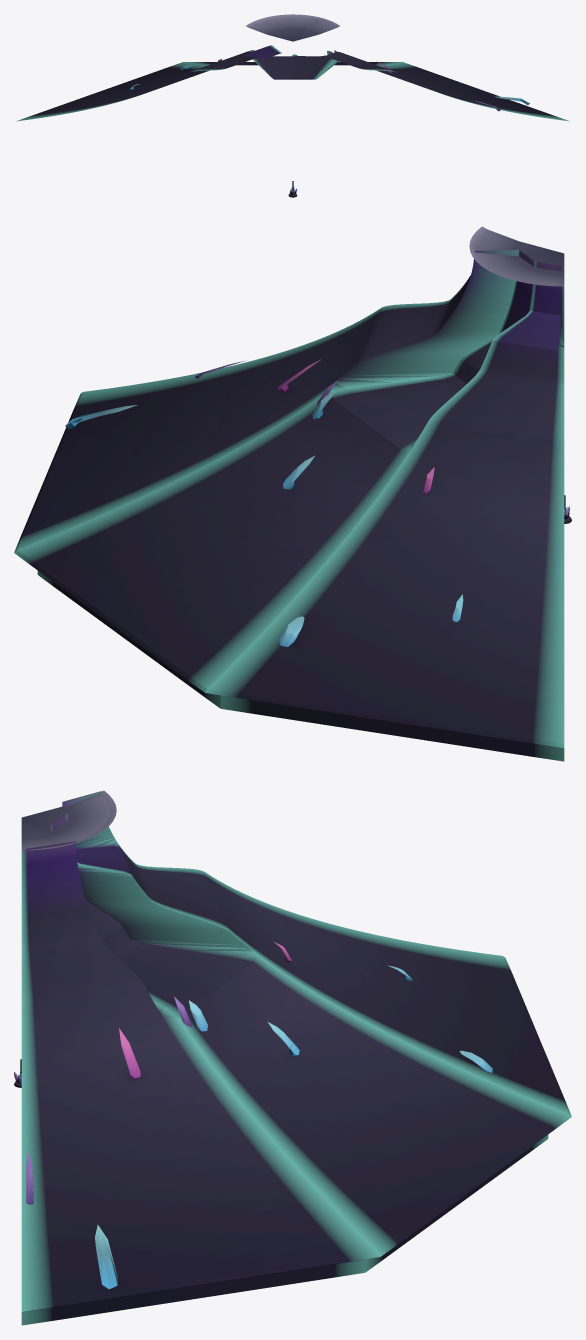
Rendered from caverns-s2-G9CEpKGm.glb.
3 renders of one model, top to bottom at view 1: azimuth 30°, elevation 25°; view 2: azimuth 150°, elevation 25°; view 3: azimuth 270°, elevation 25°, orthographic. The views are drawn at different scales.
Visible parts, largest first — view 1: sc_landmark_0; view 2: sc_landmark_0; view 3: sc_landmark_0.
Boxes of the visible parts, left/top/right/bottom form: sc_landmark_0: left=16, top=14, right=569, bottom=121; sc_landmark_0: left=14, top=226, right=564, bottom=761; sc_landmark_0: left=21, top=790, right=571, bottom=1325.
Size of the model in its own units: 644 by 245 by 429.
